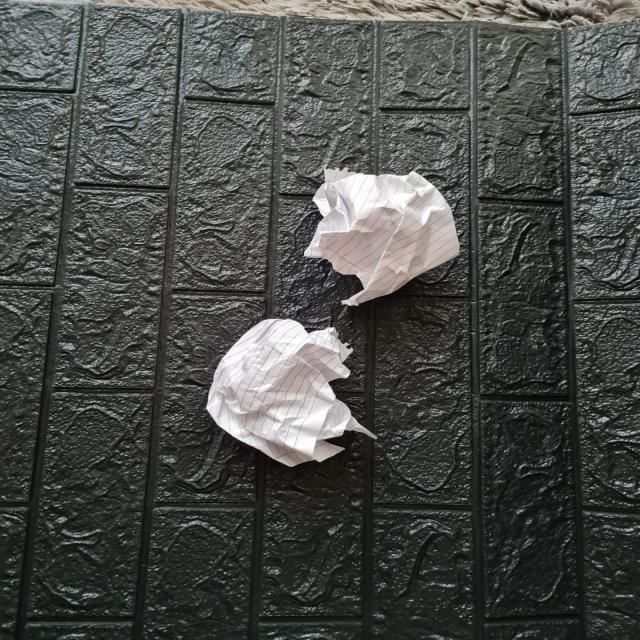Paper: (204, 318, 380, 465), (314, 169, 460, 307)
